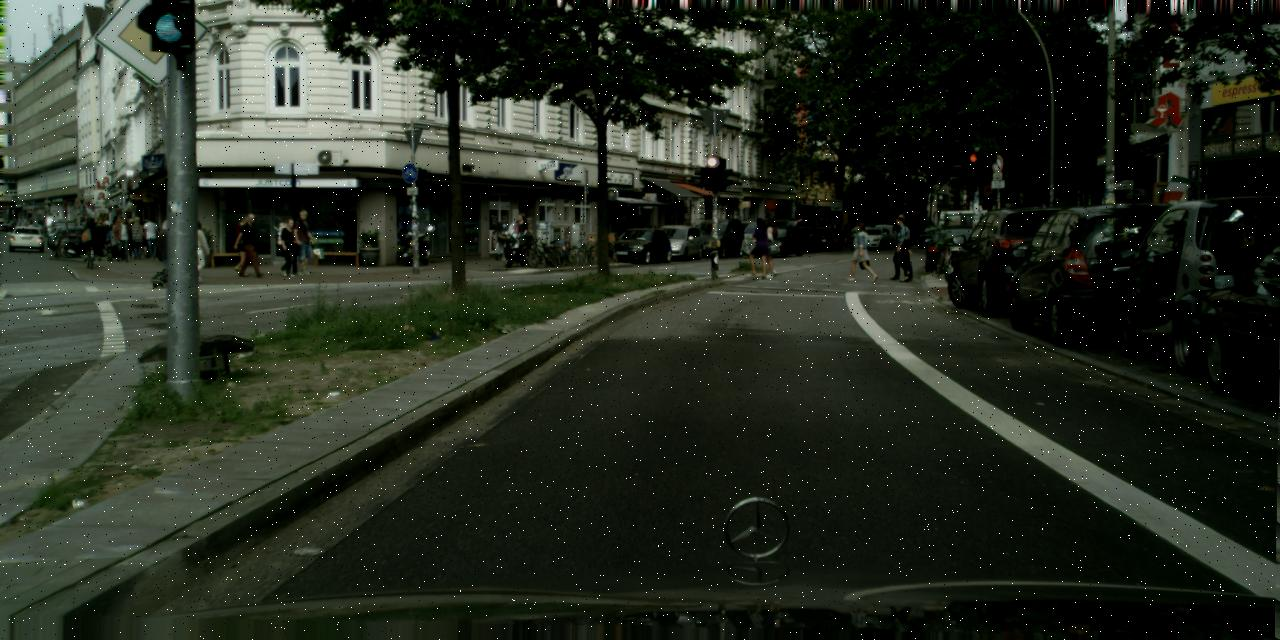ped: (290, 210, 316, 274), (889, 214, 915, 278), (890, 216, 916, 278), (240, 213, 264, 276), (758, 216, 782, 278), (156, 219, 180, 279), (184, 219, 208, 279), (747, 217, 771, 277), (849, 222, 873, 280), (232, 216, 255, 274), (277, 219, 300, 276), (492, 214, 512, 260), (114, 215, 132, 261), (142, 214, 160, 259), (90, 218, 108, 260), (128, 215, 145, 258), (512, 212, 529, 255), (83, 216, 99, 255), (107, 224, 121, 257), (646, 224, 656, 250), (842, 218, 852, 242), (74, 209, 88, 226), (105, 216, 119, 230), (143, 236, 150, 256), (128, 244, 134, 259), (16, 216, 24, 226), (140, 216, 148, 225), (128, 218, 134, 226), (94, 217, 98, 224)
